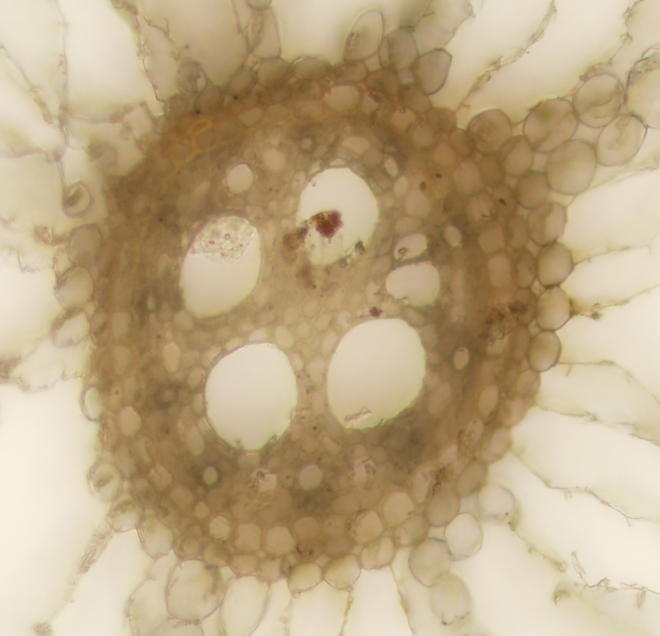lm: (326, 318, 426, 430), (203, 342, 299, 450), (178, 214, 262, 320), (295, 165, 379, 267), (385, 232, 439, 309)
